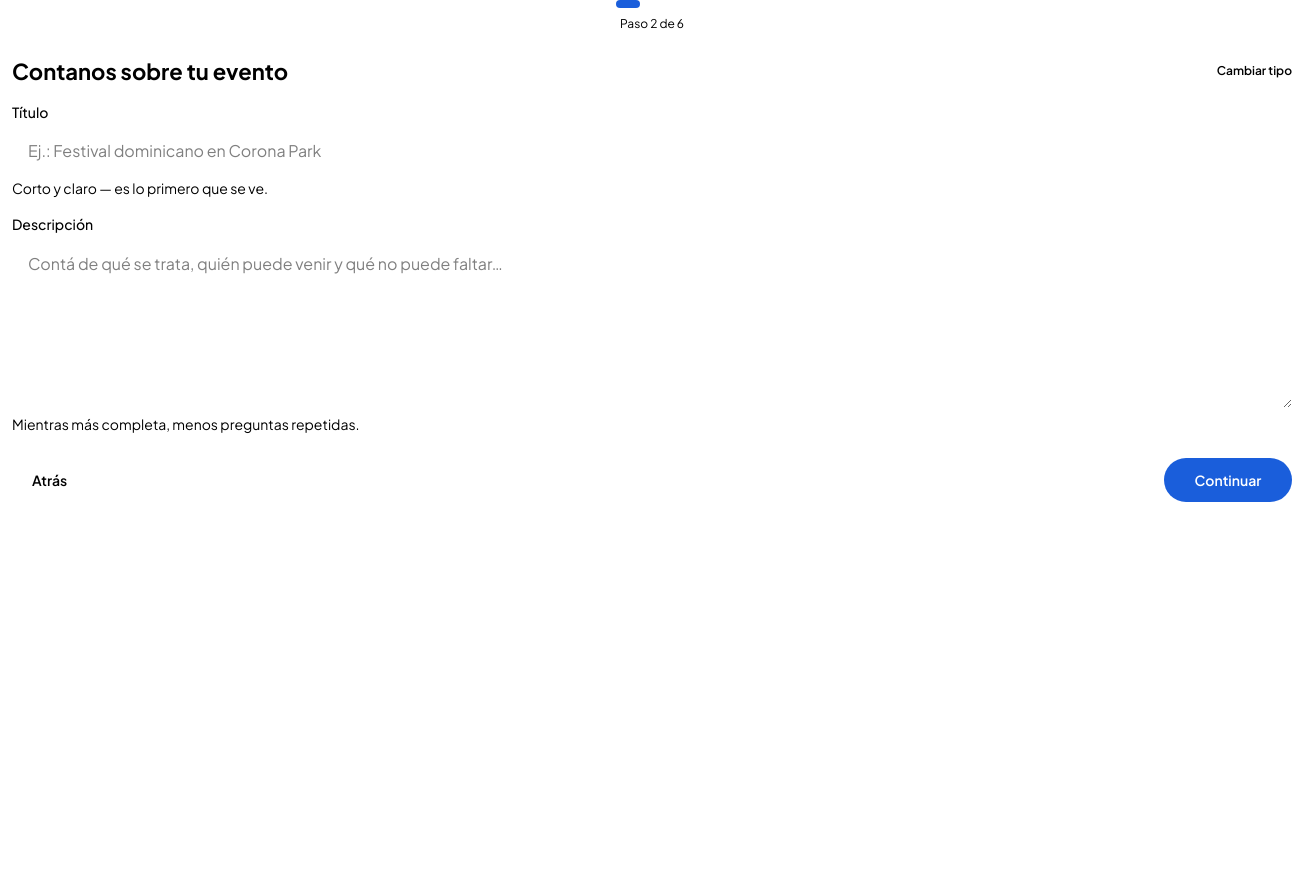
Test: PublishForm — evento: los campos que faltaban › pide categoría, entrada y modalidad, todo a la vista
Type "Cuarto amplio en casa compartida" into the field labelled "Título".
click(652, 150); type("Cuarto amplio en casa compartida")  # box left=12, top=128, right=1292, bottom=172
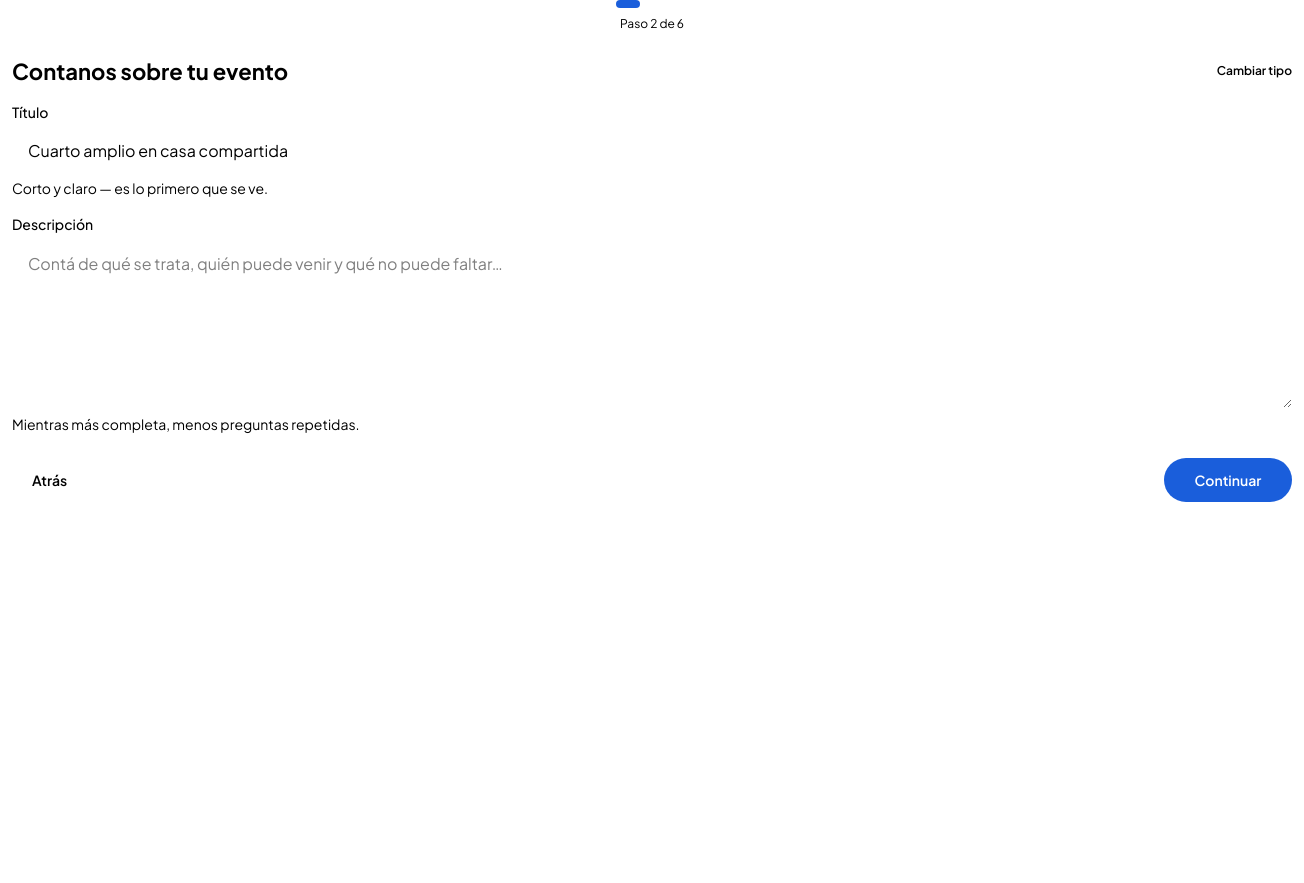
Replace the text in the text box labelled "Descripción" with "Cuarto con placard en casa tranquila, a tres cuadras del tren. Servicios incluidos." at (652, 324), box left=12, top=240, right=1292, bottom=408
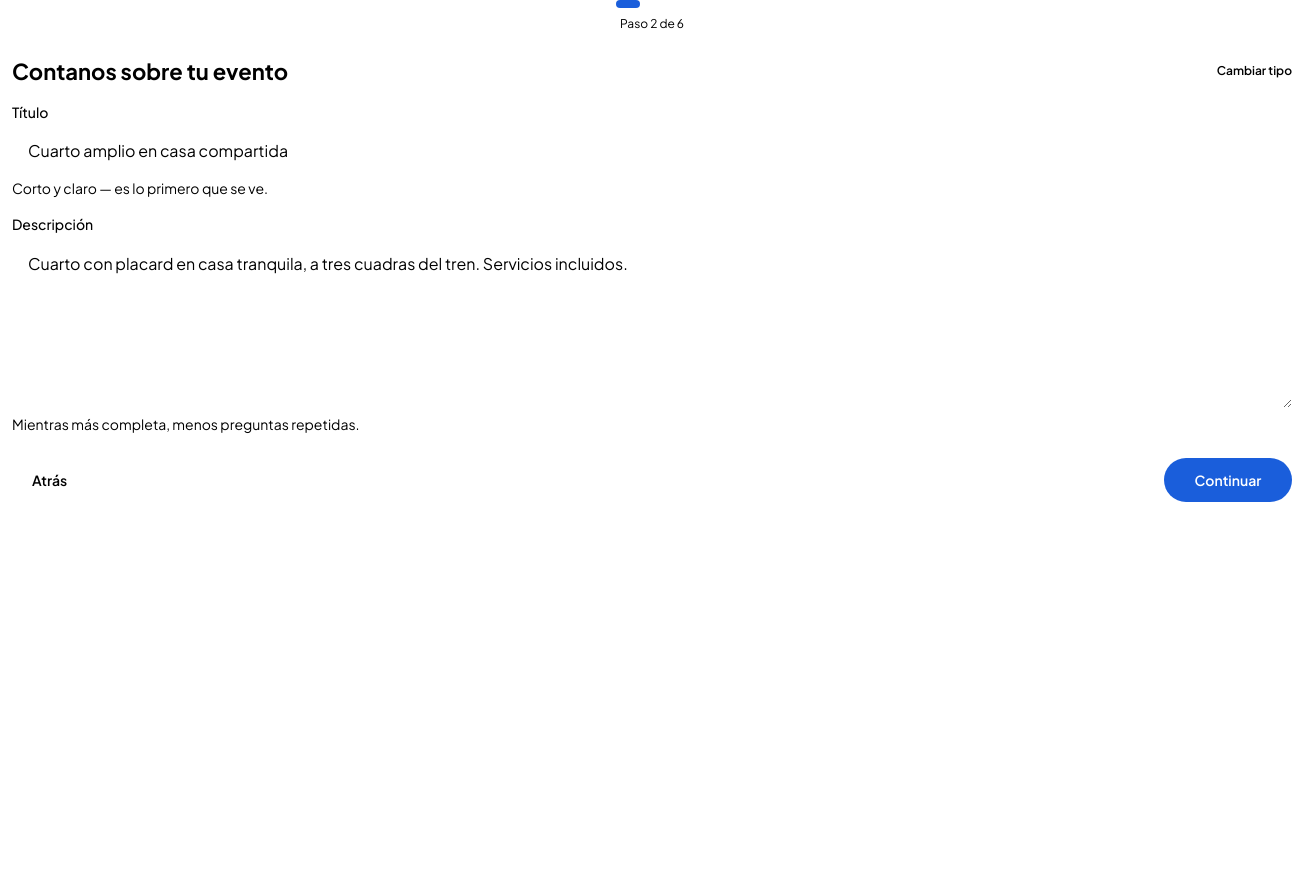
Click the button "Continuar".
click(1228, 480)  # box left=1164, top=458, right=1292, bottom=502
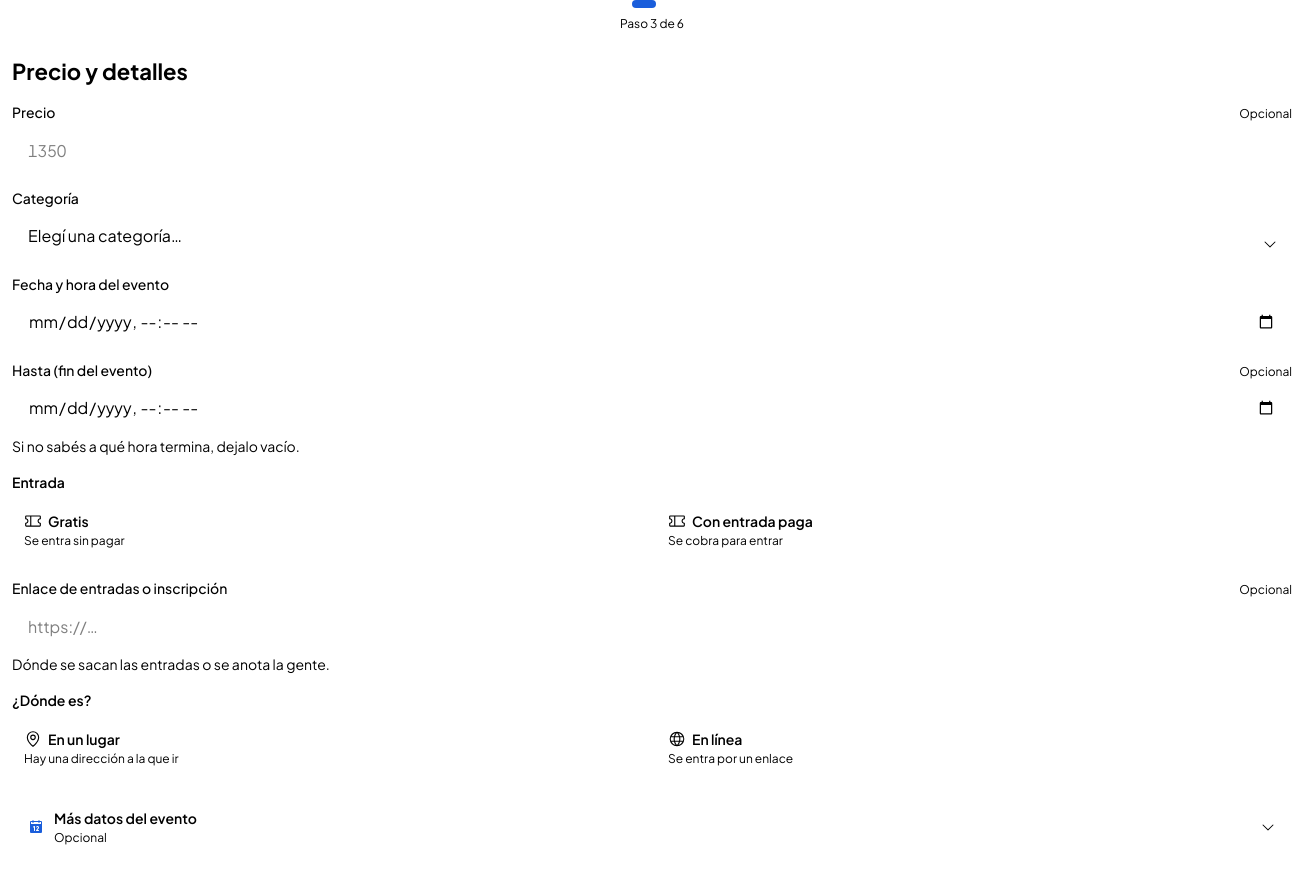
Check: the dropdown labelled "Categoría" is shown, box left=12, top=214, right=1292, bottom=258
Check: the text "Entrada" is shown, box left=12, top=472, right=65, bottom=492
Check: the text "Gratis" is shown, box left=24, top=512, right=89, bottom=530
